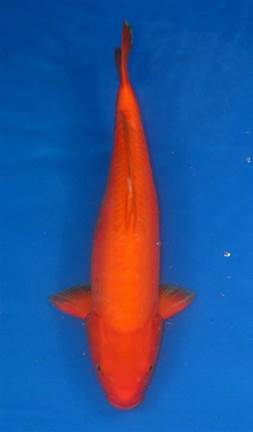red: (49, 19, 195, 408)
